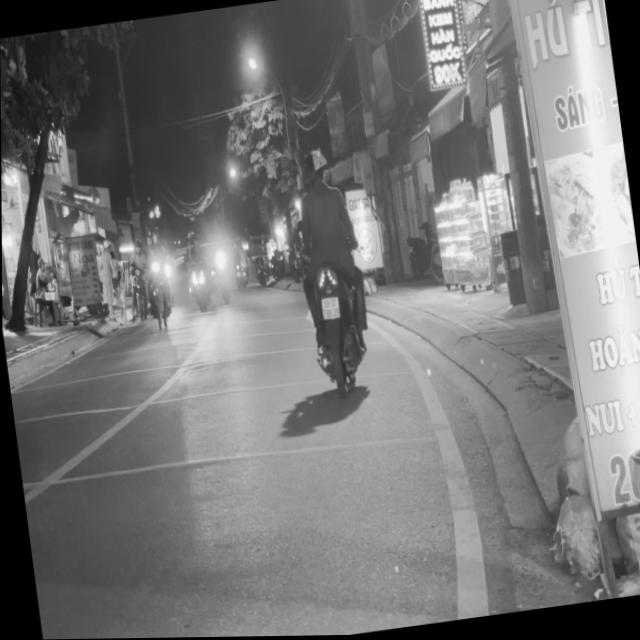helmet: (300, 146, 329, 193)
licenseplate: (281, 140, 378, 401)
nohelmet: (318, 295, 339, 319)
